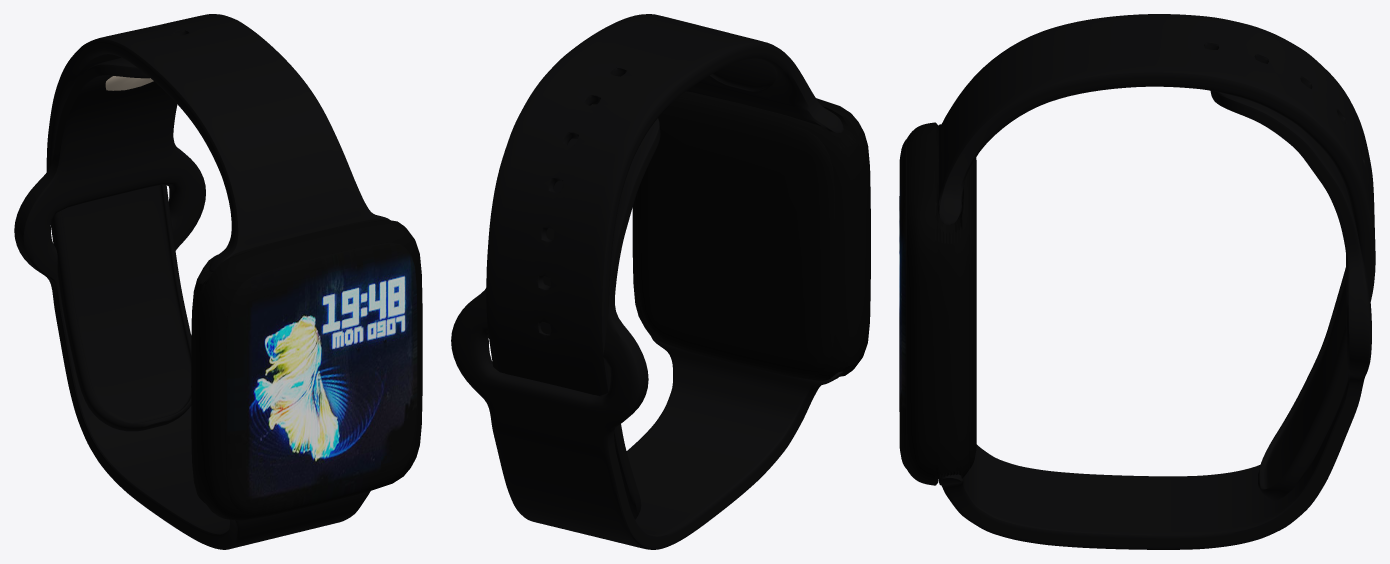
File: ApplewatchClone1_13.glb
3 renders of one model, left to right at view 1: azimuth 30°, elevation 25°; view 2: azimuth 150°, elevation 25°; view 3: azimuth 270°, elevation 25°, orthographic. The views are drawn at different scales.
Parts seen in each view (by area): view 1: Watch, BandTop, BandBot; view 2: Watch, BandTop, BandBot; view 3: BandTop, BandBot, Watch.
Part boxes in pixels (x1,y1,x2,y2): Watch: [191, 218, 422, 520]; BandTop: [46, 14, 390, 431]; BandBot: [14, 57, 370, 549]; Watch: [632, 91, 870, 380]; BandTop: [486, 14, 843, 519]; BandBot: [451, 104, 843, 549]; BandTop: [938, 14, 1375, 500]; BandBot: [939, 90, 1371, 549]; Watch: [899, 122, 976, 485].
Size of the model in its own units: 0.036 by 0.07 by 0.0631.
Materials: 5 (1 with a texture image).
